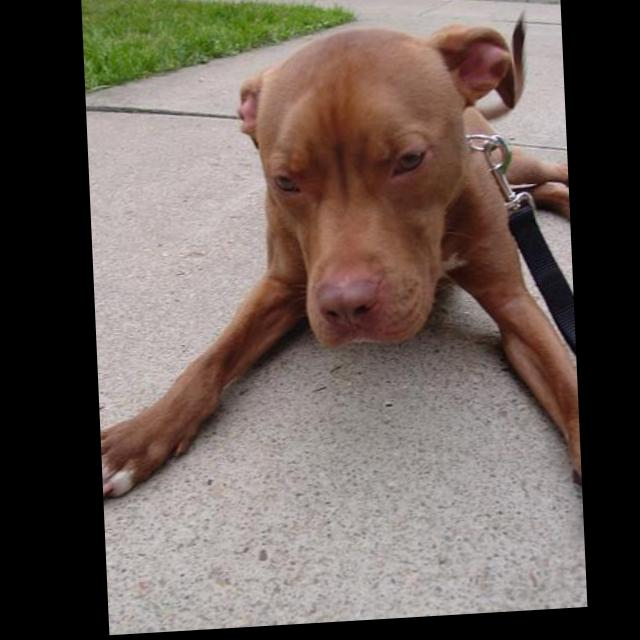amstaff: (83, 16, 581, 602)
